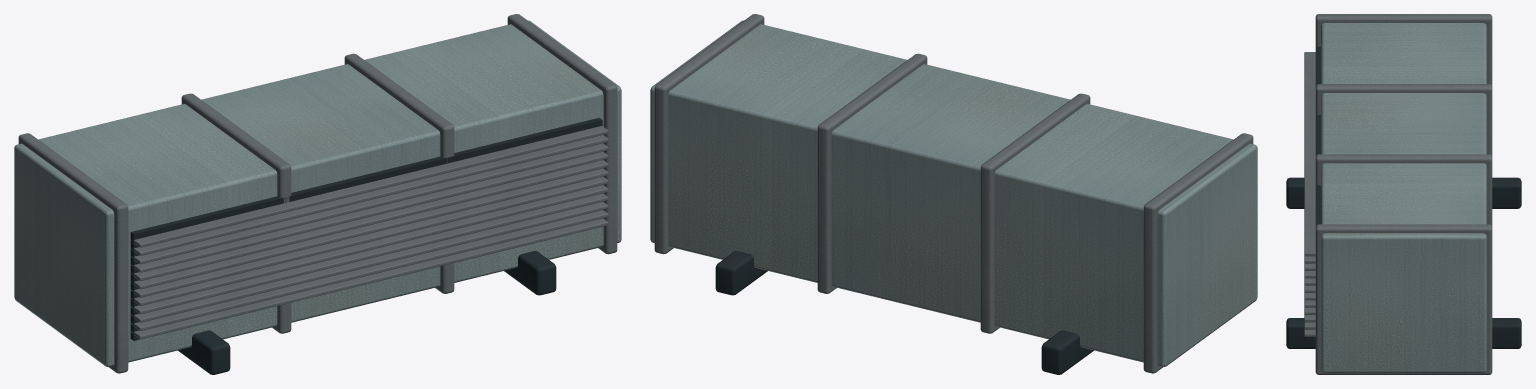
Rendered from NC_DuctBank_LOD0.fbx.
The picture shows the model from 3 angles, left to right: view 1: azimuth 30°, elevation 25°; view 2: azimuth 150°, elevation 25°; view 3: azimuth 270°, elevation 25°; orthographic projection. The views are drawn at different scales.
Visible parts, largest first — view 1: NC_DuctBank_LOD0; view 2: NC_DuctBank_LOD0; view 3: NC_DuctBank_LOD0.
Boxes of the visible parts, x1,y1,x2,y2 form: NC_DuctBank_LOD0: (14,14,621,374); NC_DuctBank_LOD0: (650,14,1257,374); NC_DuctBank_LOD0: (1286,14,1521,374).
Size of the model in its own units: 380 by 124 by 170.
